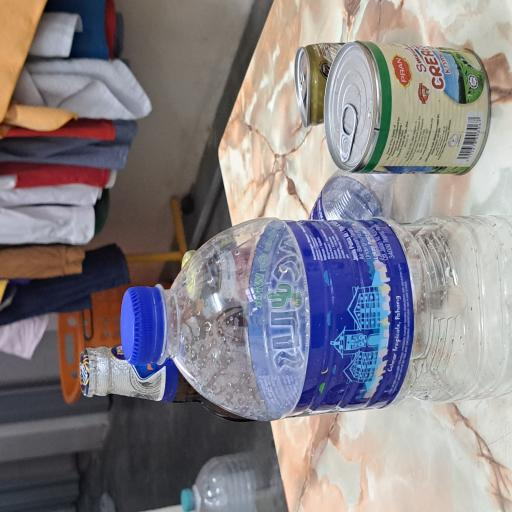can: (252, 431, 353, 512), (289, 392, 351, 462)
glass bottle: (70, 107, 154, 370)
plastic bottle: (71, 221, 221, 512), (0, 258, 47, 384), (215, 410, 259, 512)
plastic bottle cap: (110, 160, 170, 215), (0, 240, 18, 257)
pop tab: (262, 452, 307, 476), (308, 398, 334, 407)
